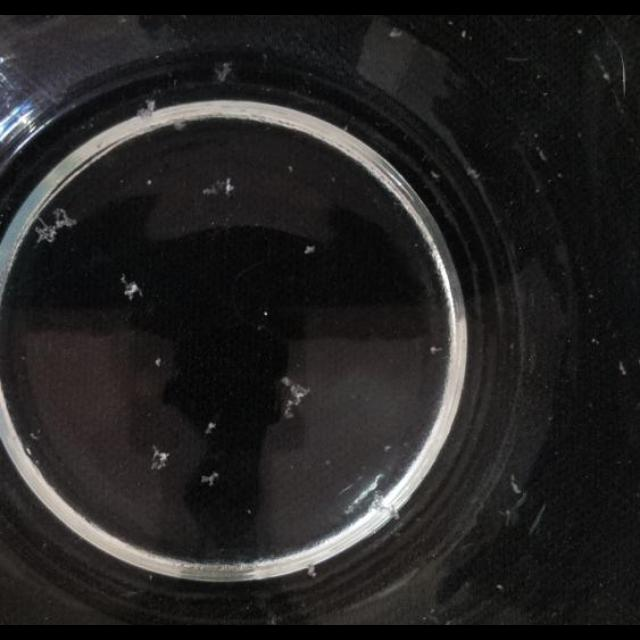Fibre: (38, 207, 76, 240), (281, 377, 309, 415), (202, 176, 236, 198), (120, 275, 144, 301), (150, 446, 170, 470), (214, 62, 234, 82), (136, 99, 156, 119), (200, 472, 218, 486), (510, 475, 522, 493), (204, 422, 216, 436), (388, 27, 404, 37), (466, 169, 479, 181)
microbeads: (536, 146, 548, 162), (306, 563, 318, 577), (618, 360, 628, 376), (303, 245, 315, 255), (430, 171, 440, 181), (30, 432, 40, 442), (460, 30, 470, 40), (430, 346, 442, 354), (154, 357, 162, 367), (384, 444, 392, 452), (591, 338, 599, 346), (26, 447, 32, 457), (324, 459, 331, 466), (146, 178, 152, 186), (288, 165, 294, 173), (588, 294, 594, 300), (262, 310, 268, 316)
